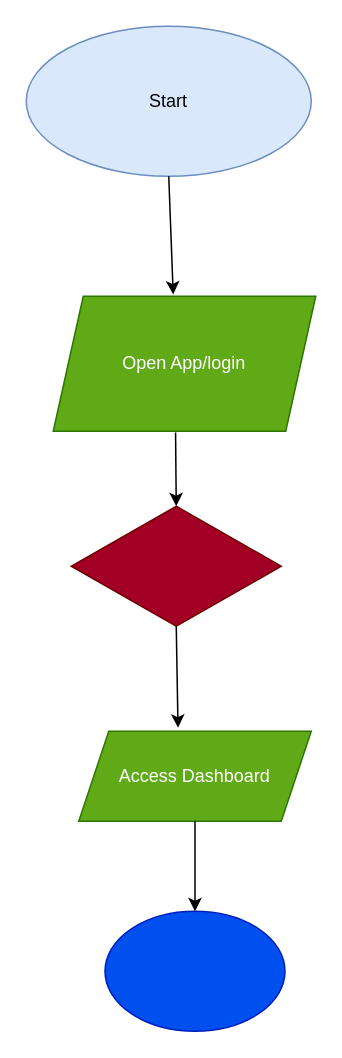
Some shapes in this 342 by 1058 pixel diagram are drawn without their labels. The shapes that lost their labels are listed below. From the top down, each one's box as (x1, y1, x2, y2) in pixels, then its label:
(70, 505, 281, 626): Choose User Type
(104, 910, 285, 1031): Use services/log out
